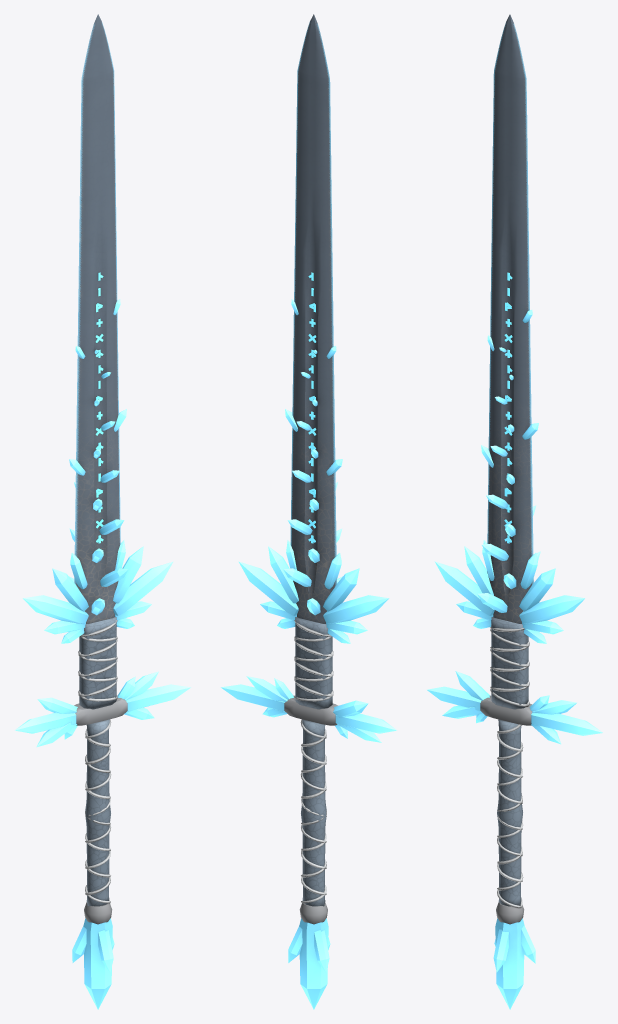
The model's file is named-frost-brand.glb.
3 renders of one model, left to right at view 1: azimuth 30°, elevation 25°; view 2: azimuth 150°, elevation 25°; view 3: azimuth 330°, elevation 25°, orthographic.
Parts seen in each view (by area): view 1: named-frost-brand; view 2: named-frost-brand; view 3: named-frost-brand.
Part boxes in pixels (left/top/right/bottom): named-frost-brand: left=15, top=14, right=190, bottom=1009; named-frost-brand: left=221, top=14, right=396, bottom=1009; named-frost-brand: left=427, top=14, right=602, bottom=1009.
Bounding box in the file's own units: 0.72 × 3.87 × 0.2568.
1 material, 1 textured.
